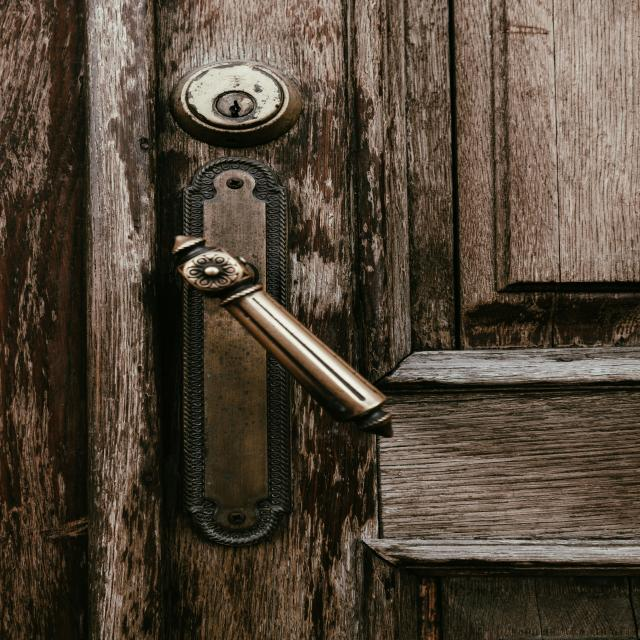door-handle: (173, 235, 392, 438)
